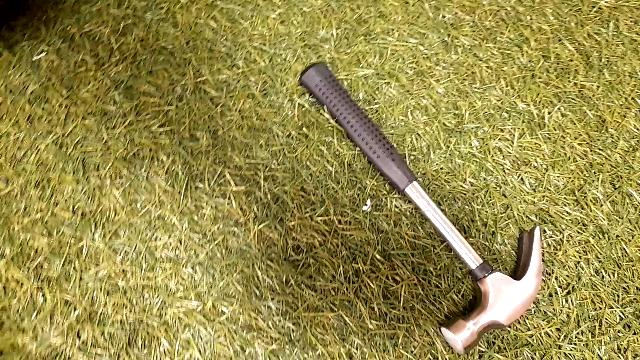hammer: (286, 64, 550, 358)
